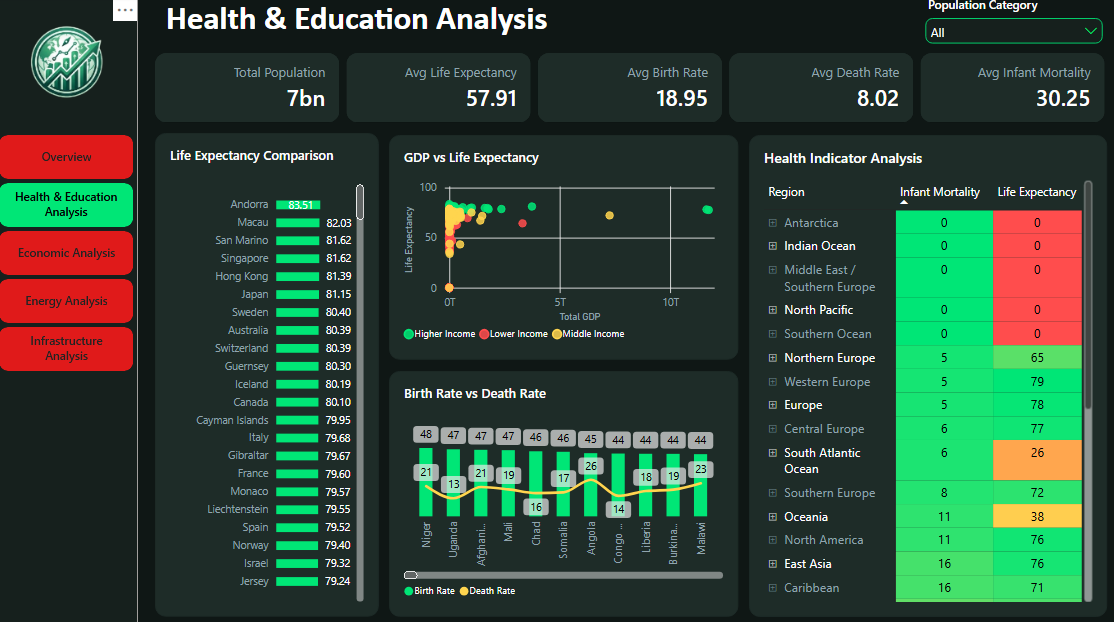

The dashboard page shown, as its layout file describes it:
{"tool":"powerbi","page":{"name":"Health & Education Analysis","canvas":[1280,720],"ordinal":1},"visuals":[{"type":"shape","box":[0,0,163,719.5],"z":0},{"type":"textbox","box":[194.8,0,445.4,51.3],"z":1000},{"type":"cardVisual","fields":{"Data":["DAX Measures.Total Population","DAX Measures.Avg Life Expectancy","DAX Measures.Avg Birth Rate","DAX Measures.Avg Death Rate","DAX Measures.Avg Infrant Mortality"]},"box":[182.3,63.8,1084.6,79.7],"z":2000},{"type":"image","box":[21.6,0,119.9,172.5],"z":3000},{"type":"slicer","fields":{"Values":["Dim Country.Population Category"]},"box":[1054.9,0,211.9,60.4],"z":4000},{"type":"barChart","title":"Life Expectancy Comparison","fields":{"Category":["Dim Country.Country"],"Y":["DAX Measures.Life Expectancy"]},"box":[181.9,154.9,254.7,551.1],"z":5000},{"type":"lineStackedColumnComboChart","title":"Birth Rate vs Death Rate","fields":{"Category":["Dim Country.Country"],"Y":["DAX Measures.Avg Birth Rate"],"Y2":["DAX Measures.Avg Death Rate"]},"box":[448.9,426.1,397.6,280.3],"z":6000},{"type":"scatterChart","title":"GDP vs Life Expectancy","fields":{"Category":["Dim Country.Country"],"Series":["Dim Country.Development Level"],"X":["DAX Measures.Total GDP"],"Y":["DAX Measures.Life Expectancy"]},"box":[448.9,157.2,397.6,256.3],"z":7000},{"type":"pageNavigator","box":[4.6,157.2,153.8,50.1],"z":8000},{"type":"pageNavigator","box":[4.6,211.9,153.8,50.1],"z":9000},{"type":"pageNavigator","box":[4.6,266.6,153.8,50.1],"z":10000},{"type":"pageNavigator","box":[4.6,321.3,153.8,50.1],"z":11000},{"type":"pageNavigator","box":[4.6,375.9,153.8,50.1],"z":12000},{"type":"pivotTable","title":"Health Indicator Analysis","fields":{"Rows":["Dim Country.Region","Dim Country.Country"],"Values":["DAX Measures.Avg Infrant Mortality","DAX Measures.Avg Life Expectancy"]},"box":[859,157.2,407.8,549.1],"z":13000}]}

Visuals, with their boxes on the page's 1280x720 design canvas (x1, y1, x2, y2). These are canvas units, not pixel positions in the 1114x622 screenshot, which may show the page scaled, cropped or inside an application window:
shape: {"left": 0, "top": 0, "right": 163, "bottom": 720}
textbox: {"left": 195, "top": 0, "right": 640, "bottom": 51}
cardVisual - DAX Measures.Total Population x DAX Measures.Avg Life Expectancy: {"left": 182, "top": 64, "right": 1267, "bottom": 144}
image: {"left": 22, "top": 0, "right": 142, "bottom": 172}
slicer - Dim Country.Population Category: {"left": 1055, "top": 0, "right": 1267, "bottom": 60}
"Life Expectancy Comparison" barChart: {"left": 182, "top": 155, "right": 437, "bottom": 706}
"Birth Rate vs Death Rate" lineStackedColumnComboChart: {"left": 449, "top": 426, "right": 846, "bottom": 706}
"GDP vs Life Expectancy" scatterChart: {"left": 449, "top": 157, "right": 846, "bottom": 414}
pageNavigator: {"left": 5, "top": 157, "right": 158, "bottom": 207}
pageNavigator: {"left": 5, "top": 212, "right": 158, "bottom": 262}
pageNavigator: {"left": 5, "top": 267, "right": 158, "bottom": 317}
pageNavigator: {"left": 5, "top": 321, "right": 158, "bottom": 371}
pageNavigator: {"left": 5, "top": 376, "right": 158, "bottom": 426}
"Health Indicator Analysis" pivotTable: {"left": 859, "top": 157, "right": 1267, "bottom": 706}
